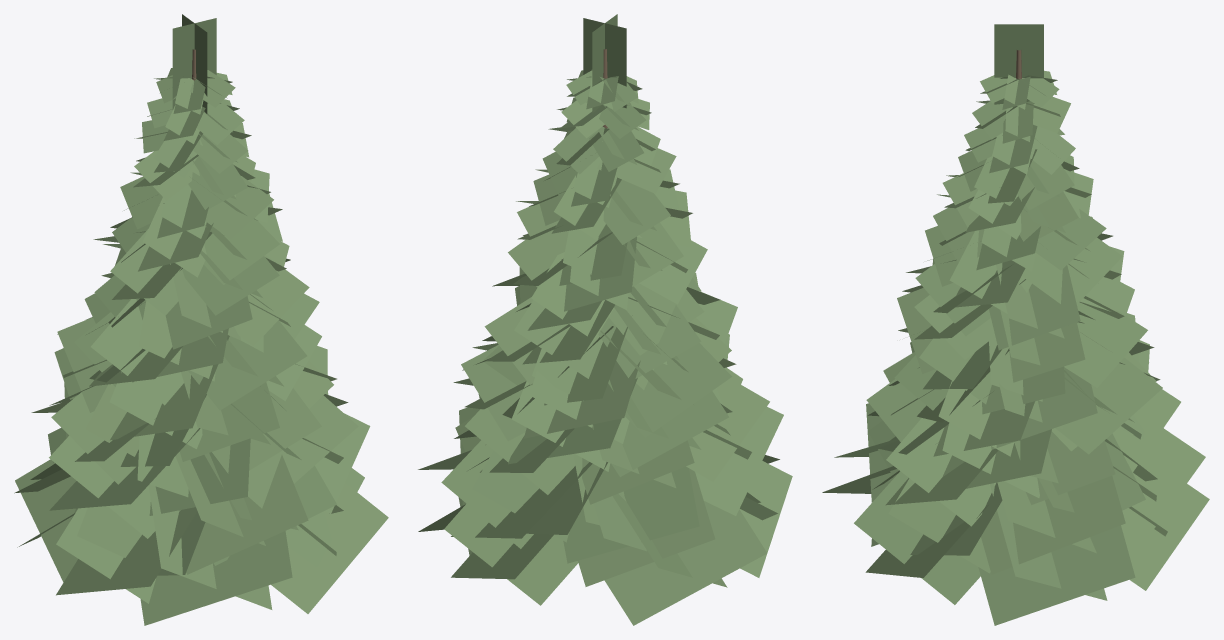
Rendered from SM_Pine_B.fbx.
3 views of the same model, side by side, from view 1: azimuth 30°, elevation 25°; view 2: azimuth 150°, elevation 25°; view 3: azimuth 270°, elevation 25° (orthographic). The views are drawn at different scales.
Parts seen in each view (by area): view 1: SM_Pine_B; view 2: SM_Pine_B; view 3: SM_Pine_B.
Part boxes in pixels (bbox=[...]): SM_Pine_B: bbox=[14, 14, 388, 625]; SM_Pine_B: bbox=[418, 14, 792, 625]; SM_Pine_B: bbox=[822, 24, 1209, 625].
Bounding box in the file's own units: 6.68 × 10.75 × 7.05.
